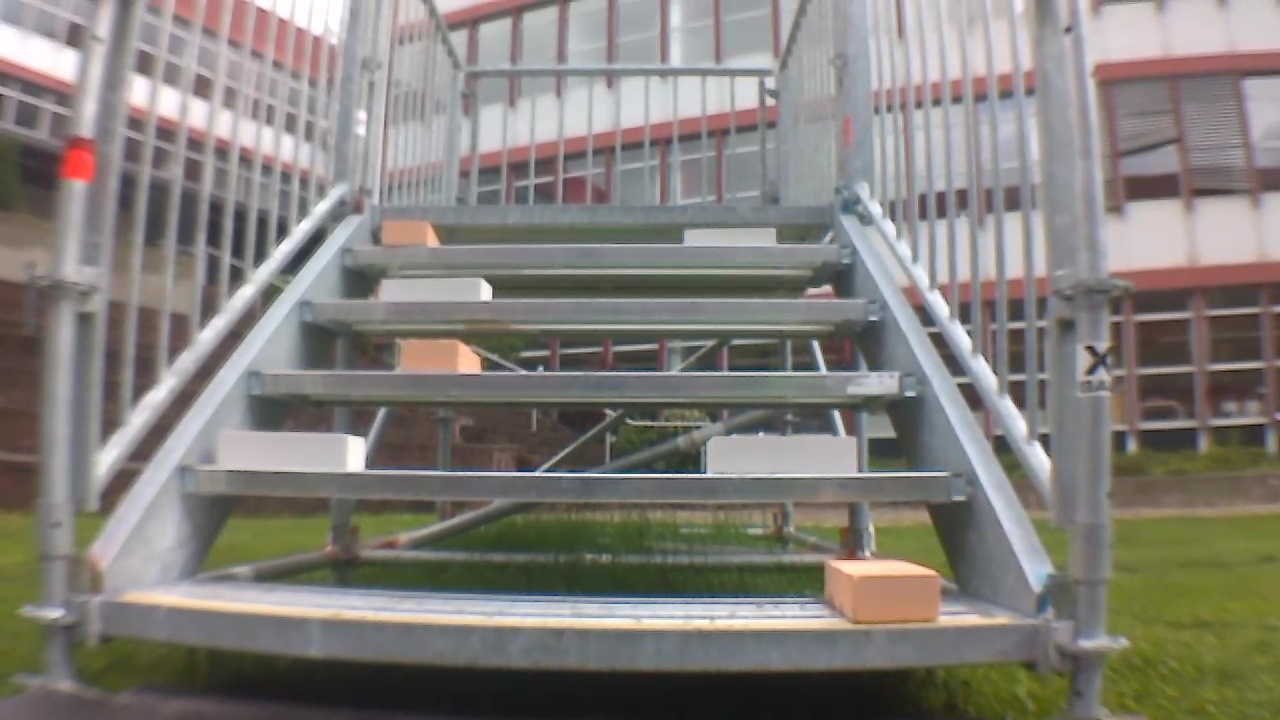brick: (825, 560, 938, 621), (217, 430, 364, 471), (708, 436, 855, 474), (401, 339, 478, 373), (382, 277, 490, 300), (685, 228, 774, 245), (382, 219, 438, 245)
edge: (100, 602, 1042, 670), (186, 468, 966, 502), (249, 372, 925, 395), (299, 300, 887, 322), (342, 245, 852, 265), (375, 205, 838, 222)
stairs: (28, 2, 1128, 714)
steps: (87, 197, 1047, 681)
